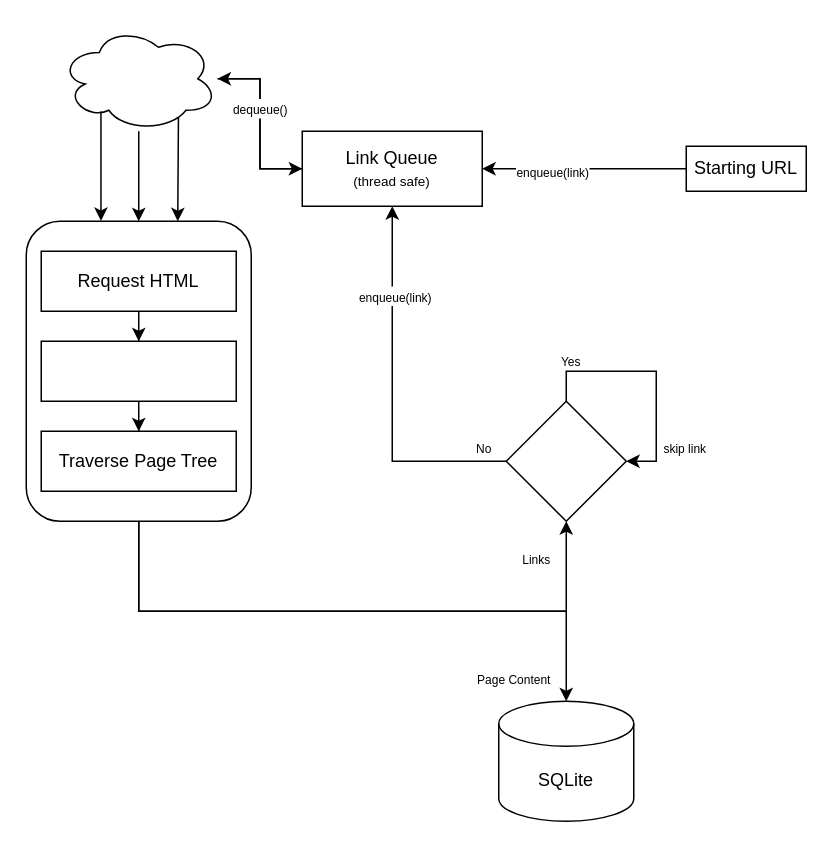
Image size: 833x848. Some labels were removed from this diagram. The shapes that lost their labels are listed below. From the top down, each one's box as (x1, y1, x2, y2) in pixels, then its label:
(58, 25, 218, 131): Thread Pool
(40, 340, 236, 401): Parse Body
(505, 400, 626, 521): Visited?
